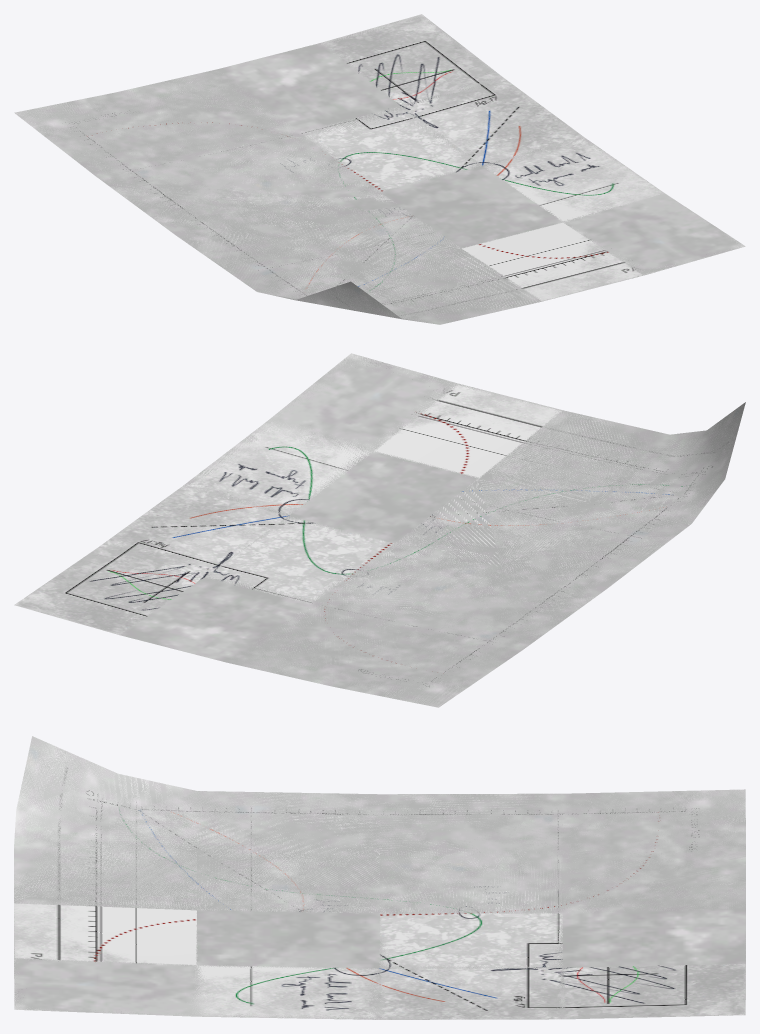
File: note_ross_files03.dae
The picture shows the model from 3 angles, top to bottom: view 1: azimuth 30°, elevation 25°; view 2: azimuth 150°, elevation 25°; view 3: azimuth 270°, elevation 25°; orthographic projection. The views are drawn at different scales.
Parts seen in each view (by area): view 1: polySurface3; view 2: polySurface3; view 3: polySurface3.
Boxes of the visible parts, box(x1,y1,x2,y2) form: polySurface3: box(14, 14, 745, 324); polySurface3: box(14, 353, 745, 707); polySurface3: box(14, 736, 745, 1019).
Bounding box in the file's own units: 0.2536 × 0.0404 × 0.3491.
